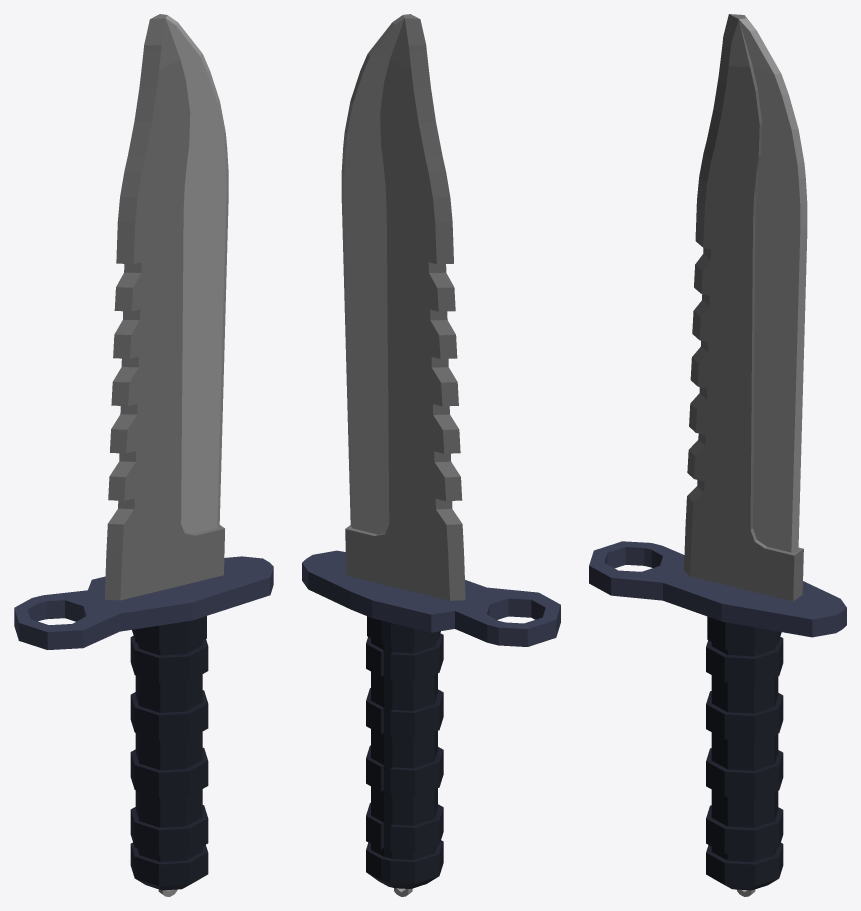
Rendered from SM_CombatKnife.glb.
3 views of the same model, side by side, from view 1: azimuth 30°, elevation 25°; view 2: azimuth 150°, elevation 25°; view 3: azimuth 330°, elevation 25° (orthographic).
Parts seen in each view (by area): view 1: M.CombatKnife; view 2: M.CombatKnife; view 3: M.CombatKnife.
Boxes of the visible parts, x1,y1,x2,y2 form: M.CombatKnife: (14, 14, 273, 896); M.CombatKnife: (302, 14, 560, 896); M.CombatKnife: (589, 14, 846, 896).
Bounding box in the file's own units: 0.1777 × 0.598 × 0.061.
Materials: 1 (1 with a texture image).
